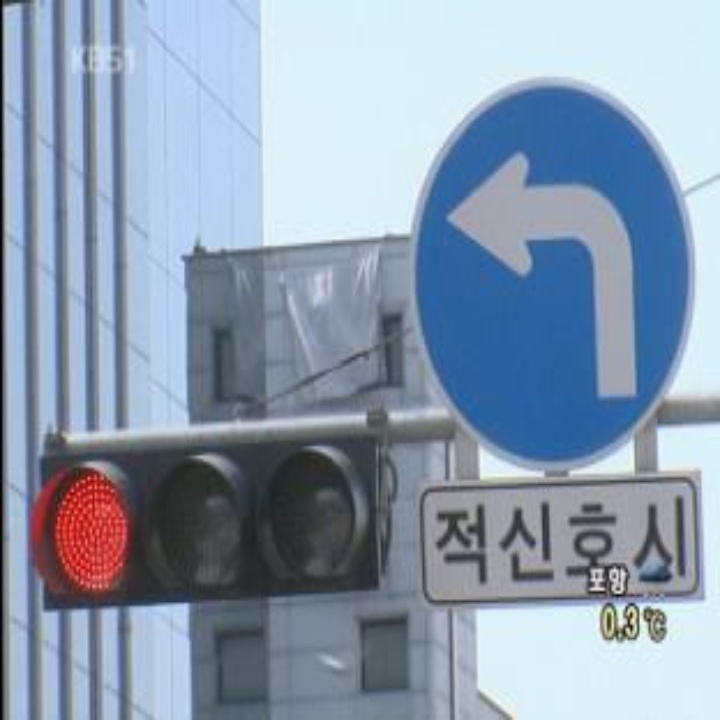left: (437, 138, 653, 407)
